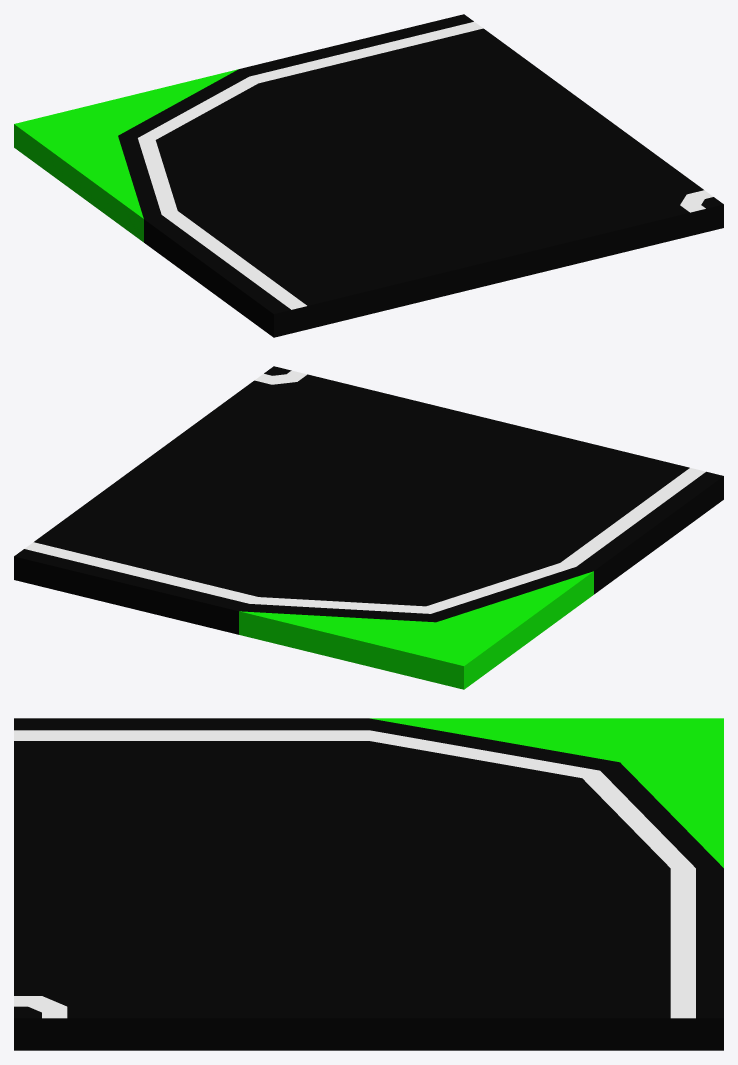
Rendered from road_turn_r_export.fbx.
3 views of the same model, one above another, from view 1: azimuth 30°, elevation 25°; view 2: azimuth 150°, elevation 25°; view 3: azimuth 270°, elevation 25° (orthographic). The views are drawn at different scales.
Parts seen in each view (by area): view 1: Road, Grass; view 2: Road, Grass; view 3: Road, Grass.
Part boxes in pixels (<box>): Road: <box>118,14,723,337</box>; Grass: <box>14,69,238,242</box>; Road: <box>14,366,723,634</box>; Grass: <box>239,571,593,689</box>; Road: <box>14,718,723,1050</box>; Grass: <box>370,718,723,867</box>.
Size of what is drawn, in the model's own units: 2000 by 100 by 2000.
